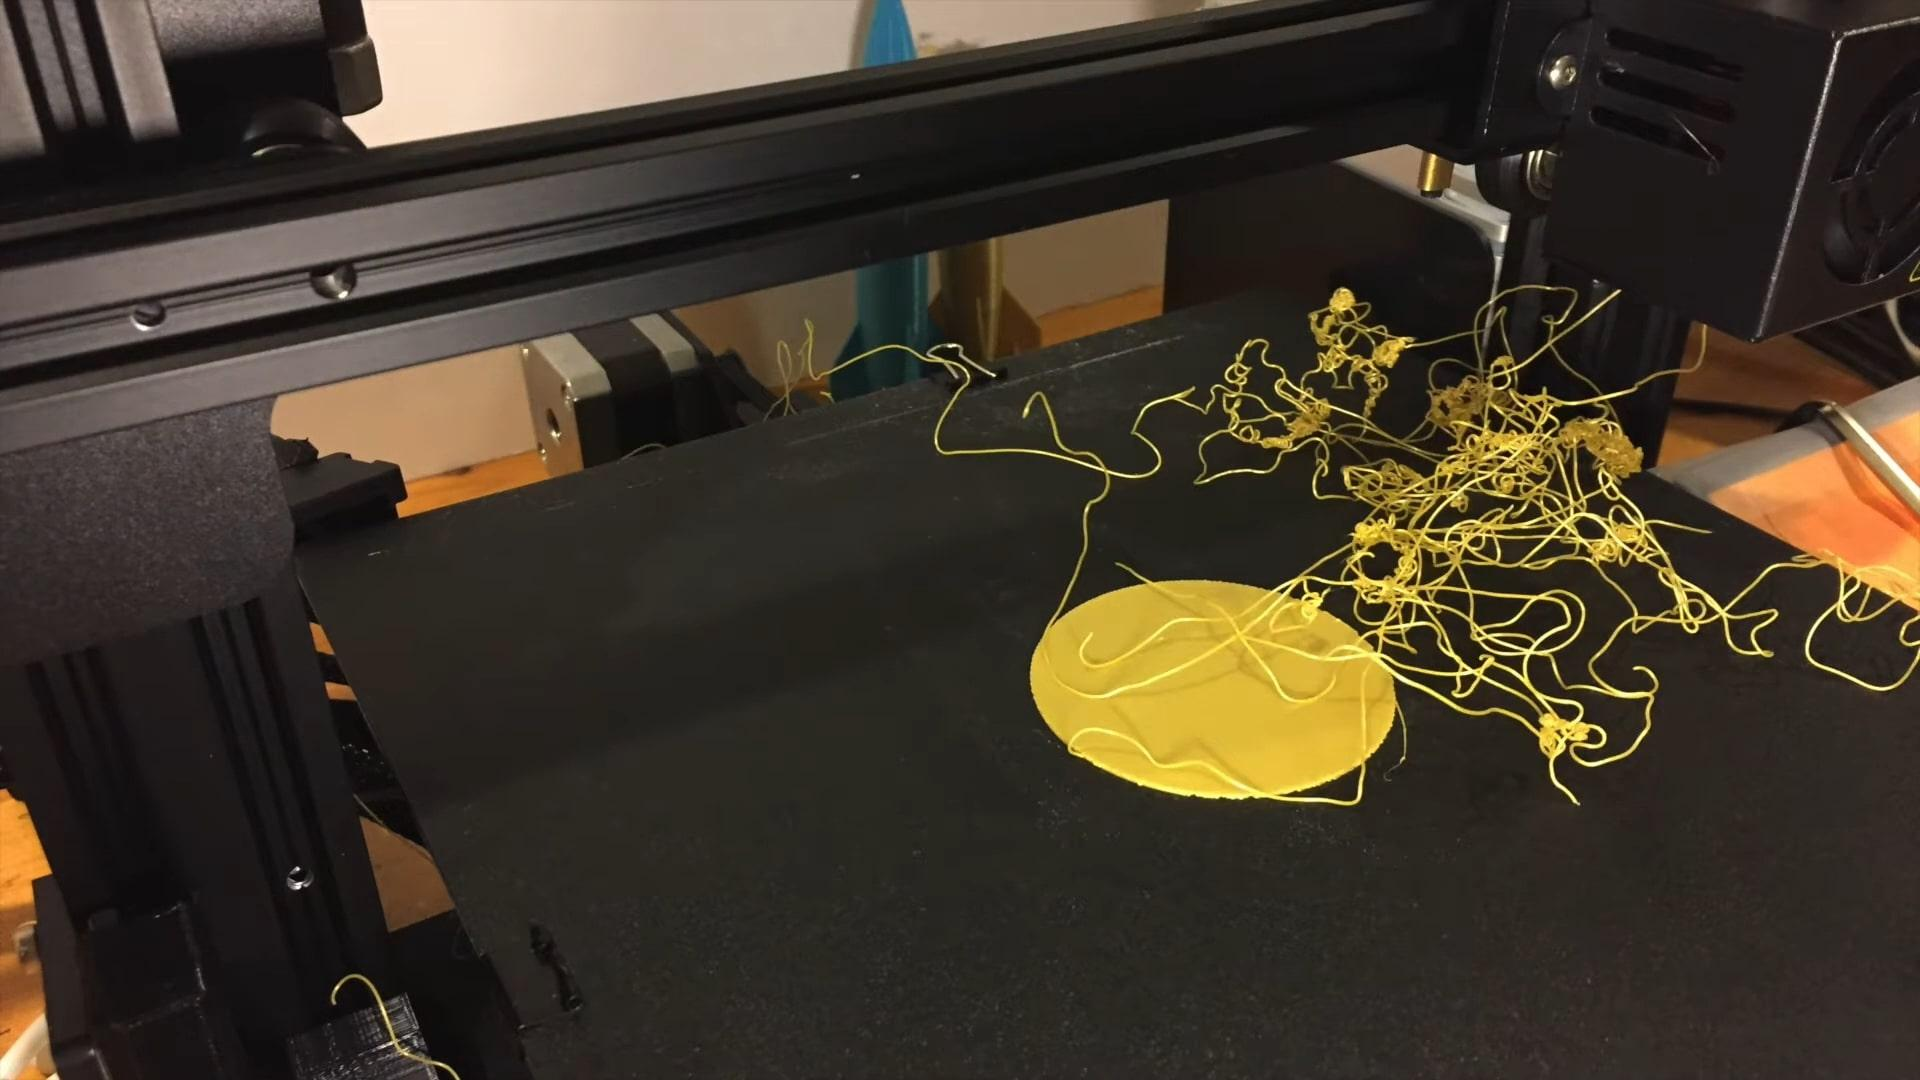Printing-Artifact: (1233, 290, 1730, 793)
